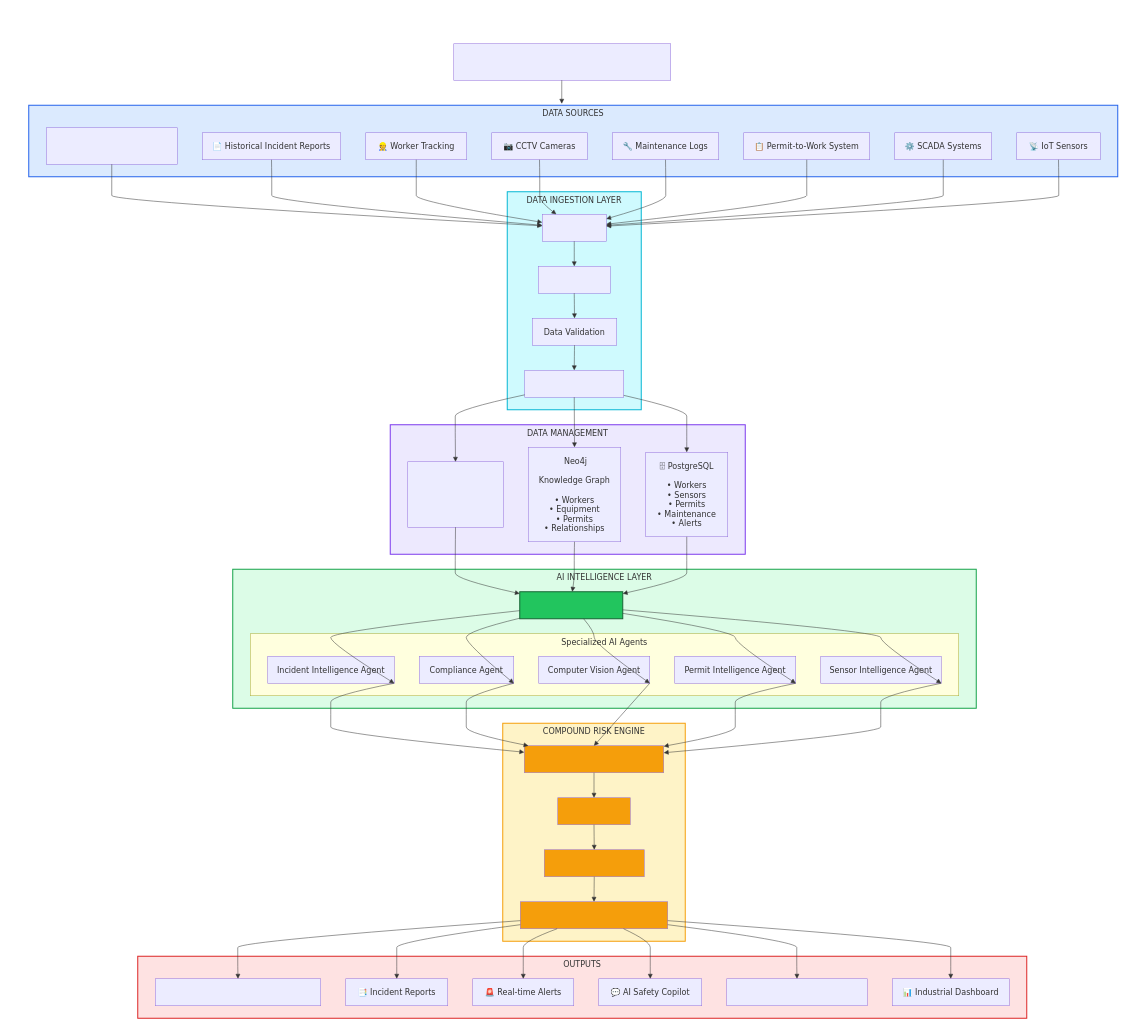
Some shapes in this 1127 by 1027 pixel diagram are drawn without their labels. The centre of each missing label's shape, as x and y in pixels:
Data Normalization: the point at 574,383
Explainable AI Recommendations: the point at 594,915
Multi-source Event Correlation: the point at 594,759
pgvector • Embeddings • Semantic Search • RAG Storage: the point at 455,494
Predictive Analytics: the point at 594,863
REST APIs: the point at 574,227
Risk Scoring: the point at 593,811
SafeFusion AI AI-Powered Industrial Safety Intelligence Platform: the point at 562,61
Supervisor Agent: the point at 571,605
WebSockets: the point at 574,279
📚 Safety Regulations (OISD / Factory Act / DGMS): the point at 111,145
🗺 Geospatial Safety Heatmap: the point at 796,992
🚑 Emergency Response Orchestrator: the point at 238,992
